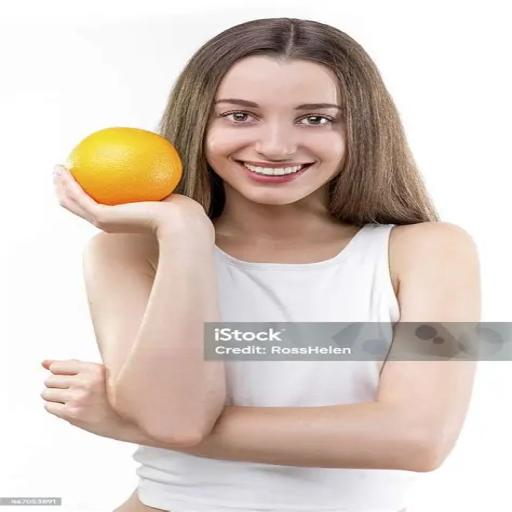orange: (65, 128, 182, 205)
